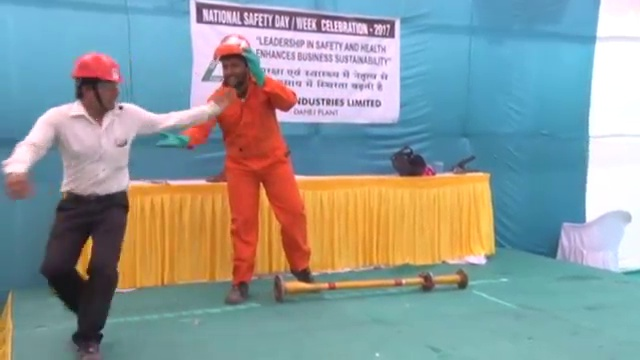helmet: (70, 52, 123, 85), (214, 34, 252, 61)
helmet_on: (69, 52, 124, 115), (213, 34, 253, 93)
person: (4, 52, 219, 359), (183, 32, 321, 292)
